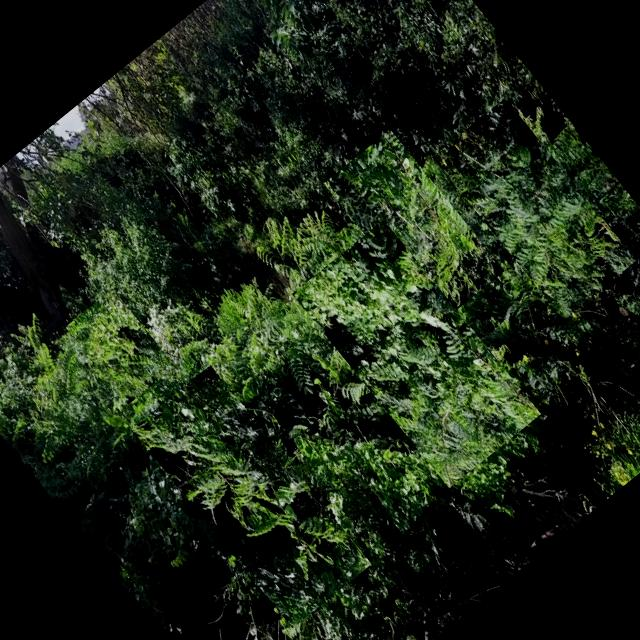Mysore-Thorn-Weed: (293, 219, 542, 488), (132, 365, 372, 628), (432, 98, 637, 320), (324, 129, 505, 325), (0, 302, 122, 443), (66, 288, 176, 404), (248, 346, 338, 439)
